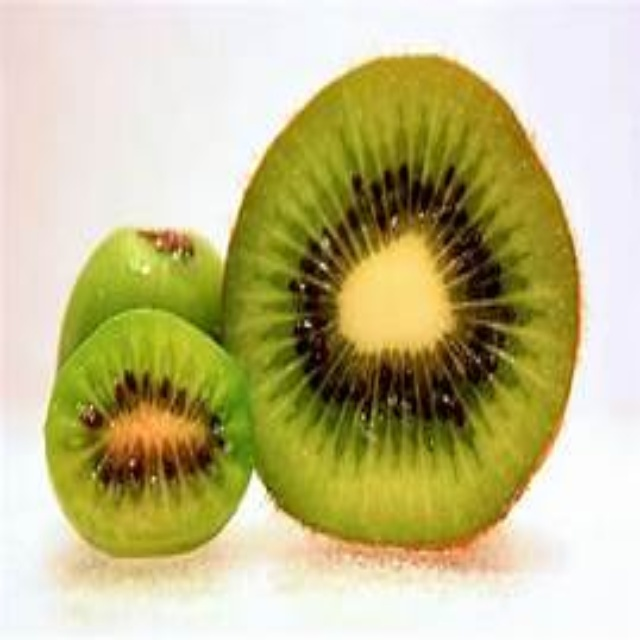kiwi: (232, 51, 580, 553), (31, 231, 277, 590)
